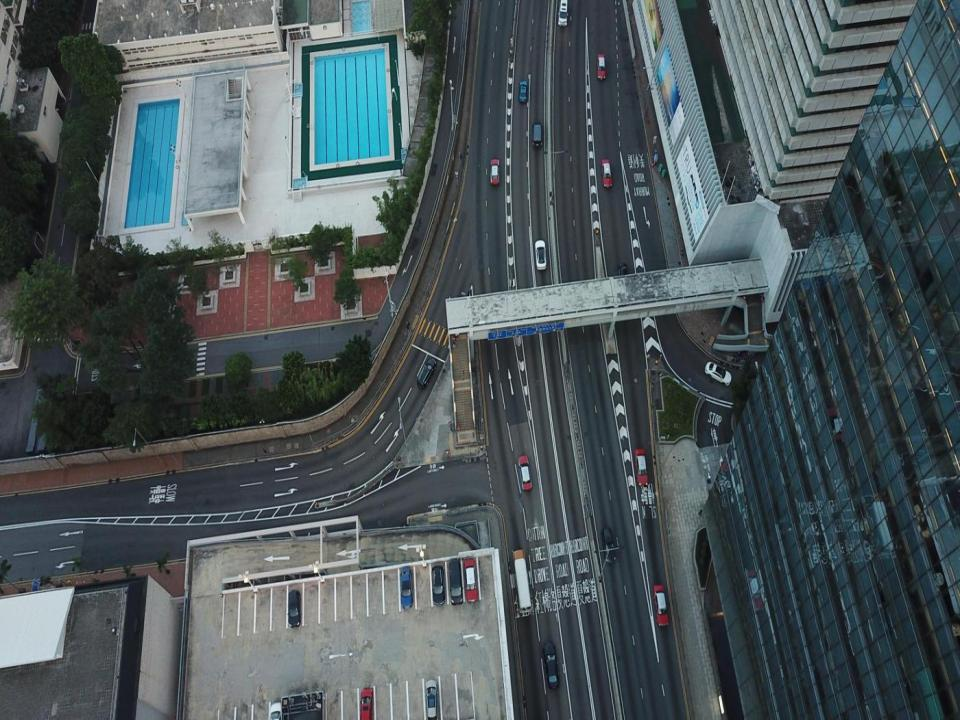bus: (512, 548, 532, 613)
car: (543, 642, 560, 691), (653, 584, 668, 628), (704, 361, 731, 385), (464, 558, 478, 602), (449, 559, 462, 605), (431, 565, 445, 605), (601, 527, 616, 564), (417, 359, 436, 388), (401, 566, 414, 608), (425, 680, 439, 719), (358, 687, 374, 719), (518, 454, 532, 490), (635, 449, 648, 486), (289, 590, 301, 629), (535, 240, 546, 270), (600, 159, 612, 186), (616, 263, 628, 289), (531, 122, 542, 148), (490, 158, 499, 186), (518, 80, 528, 103), (596, 54, 605, 79), (269, 702, 281, 719)
van: (558, 0, 568, 26)
